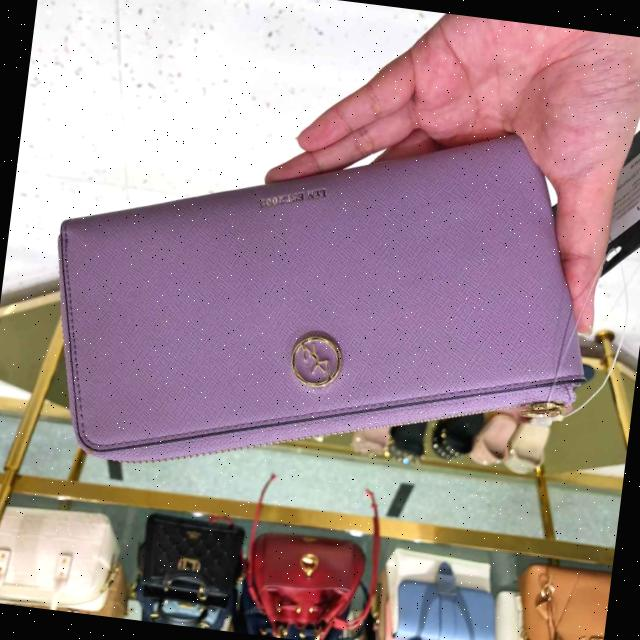handbag: (23, 80, 622, 522)
